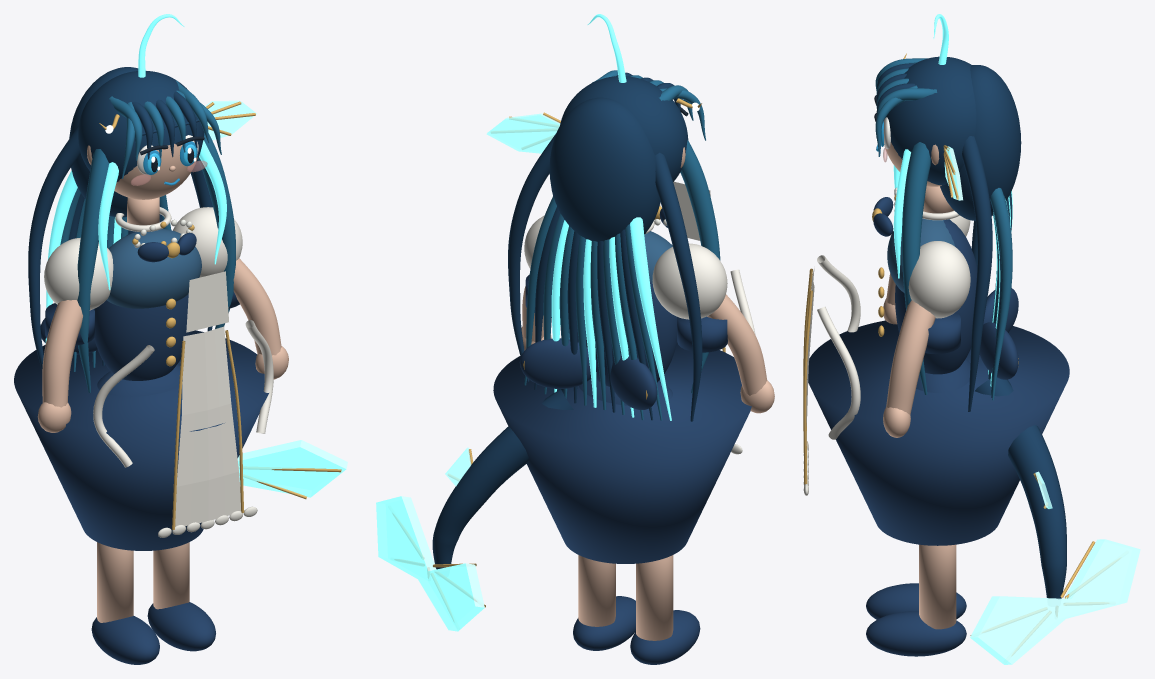
The model's file is deepseek-whale-girl.glb.
3 renders of one model, left to right at view 1: azimuth 30°, elevation 25°; view 2: azimuth 150°, elevation 25°; view 3: azimuth 270°, elevation 25°, orthographic. The views are drawn at different scales.
Visible parts, largest first — view 1: Skirt, Apron, Bodice, Hair_Cap, Bust, Tail_Fin, Hair_Side_-1, Hair_Outer_-1, Arm_-1, Sleeve_-1, Leg_-1, Shoe_1 (+27 smaller); view 2: Skirt, Hair_BackMass, Tail_Fin, Tail_Root, Hair_Cap, Hair_Outer_-1, Sleeve_-1, Leg_-1, Hair_Outer_1, BackBow_1, Arm_-1, Leg_1 (+27 smaller); view 3: Skirt, Tail_Fin, Hair_Cap, Tail_Root, Hair_BackMass, Sleeve_1, Hair_Outer_1, Shoe_1, Leg_1, Arm_1, Hair_Side_1, Bodice (+14 smaller).
Part boxes in pixels (x1,y1,x2,y2): Skirt: [14, 330, 268, 550]; Apron: [175, 326, 240, 526]; Bodice: [94, 231, 191, 380]; Hair_Cap: [78, 71, 204, 181]; Bust: [107, 229, 201, 308]; Tail_Fin: [237, 440, 347, 497]; Hair_Side_-1: [77, 149, 108, 392]; Hair_Outer_-1: [28, 126, 80, 370]; Arm_-1: [42, 300, 82, 407]; Sleeve_-1: [44, 237, 113, 310]; Leg_-1: [97, 542, 133, 622]; Shoe_1: [147, 602, 215, 651]; Skirt: [493, 341, 751, 563]; Hair_BackMass: [549, 97, 660, 241]; Tail_Fin: [376, 496, 484, 631]; Tail_Root: [432, 389, 573, 569]; Hair_Cap: [560, 76, 688, 181]; Hair_Outer_-1: [655, 152, 702, 421]; Sleeve_-1: [652, 243, 727, 319]; Leg_-1: [636, 555, 673, 640]; Hair_Outer_1: [508, 133, 556, 381]; BackBow_1: [519, 338, 597, 388]; Arm_-1: [707, 294, 767, 395]; Leg_1: [578, 555, 615, 626]; Skirt: [807, 320, 1069, 545]; Tail_Fin: [970, 539, 1140, 664]; Hair_Cap: [885, 56, 976, 185]; Tail_Root: [975, 377, 1066, 598]; Hair_BackMass: [940, 65, 1021, 220]; Sleeve_1: [908, 241, 970, 318]; Hair_Outer_1: [962, 136, 992, 411]; Shoe_1: [866, 611, 966, 656]; Leg_1: [919, 544, 956, 629]; Arm_1: [886, 300, 935, 414]; Hair_Side_1: [902, 142, 930, 394]; Bodice: [895, 219, 977, 374].
Bounding box in the file's own units: 1.06 × 1.8 × 0.8685.
